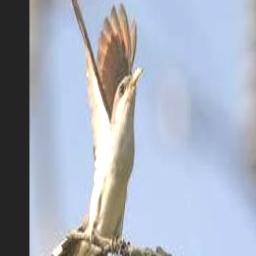Cuckoo: (38, 0, 144, 256)
